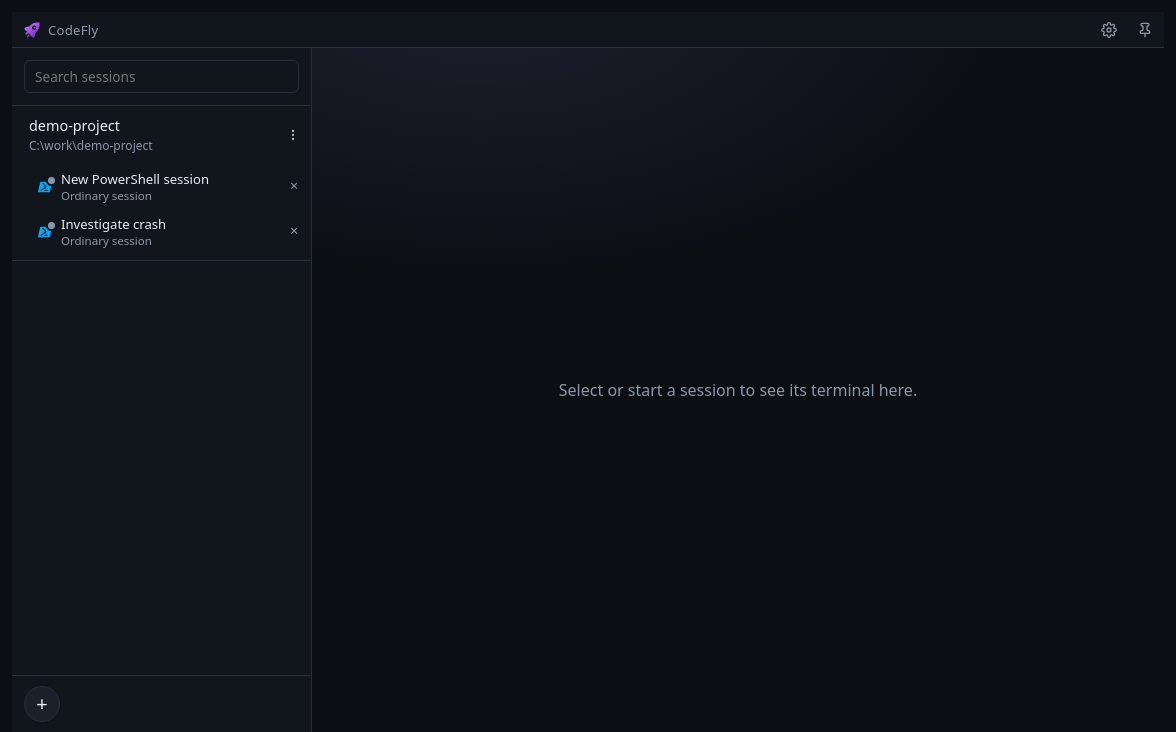
Test: App › filters session rows by the search query
The image size is (1176, 732).
Expected: the text "New PowerShell session" is shown, [61, 170, 209, 188]
Type "crash" into the search field labelled "Search sessions".
click(162, 76); type("crash")  # box [24, 60, 299, 93]
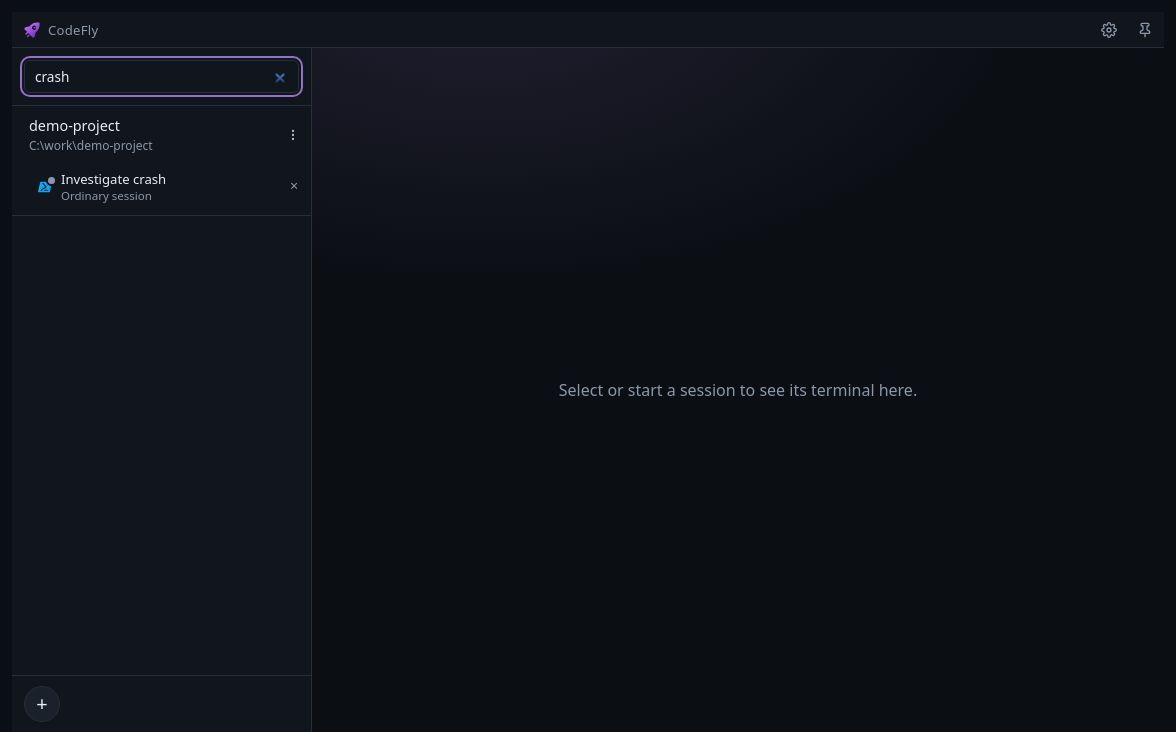
Expected: the text "Investigate crash" is shown, [61, 170, 166, 188]
Now the button "New PowerShell session" is gone
